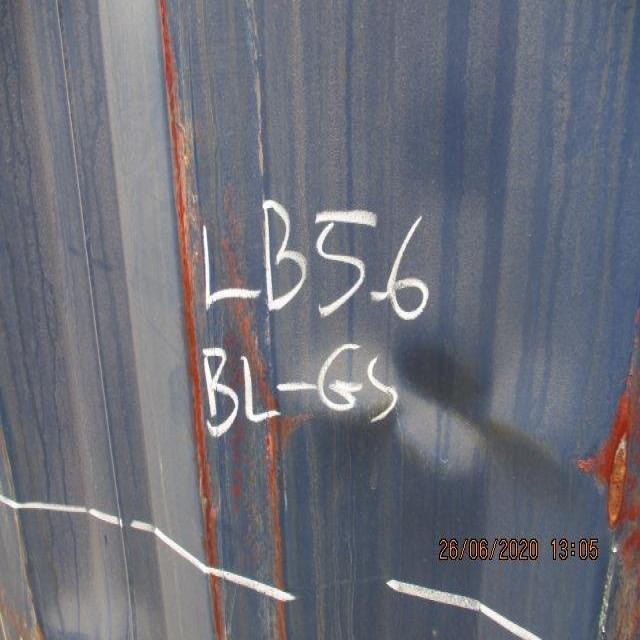Minor-Dent: (176, 281, 633, 528)
